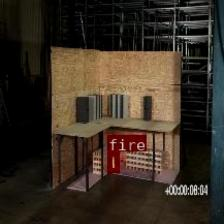fire: (107, 151, 118, 171)
